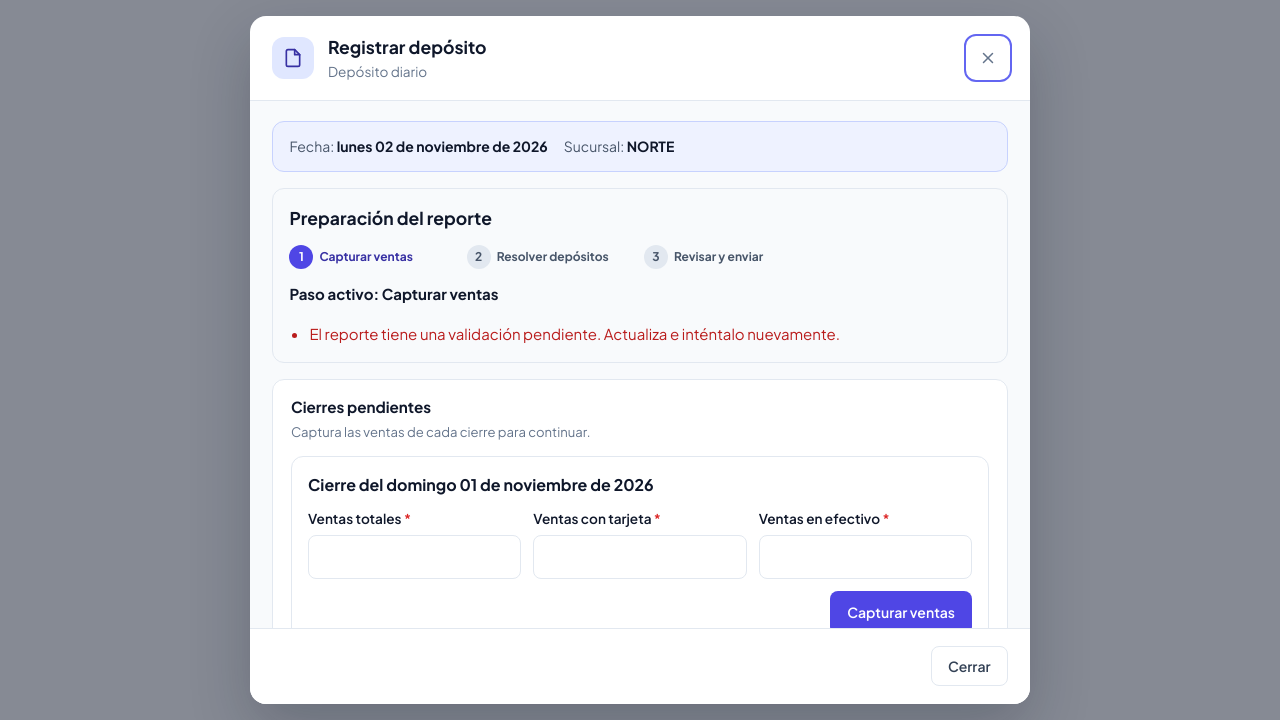
it: DepositDemoModal › captures a server-provided closure and advances to the returned report
expect the heading "Cierre del domingo 01 de noviembre de 2026" is shown: met, box [308,474,654,495]
Type "100.00" into the number field labelled "Ventas totales *" at {"x": 415, "y": 557}, box [308,535,521,579]
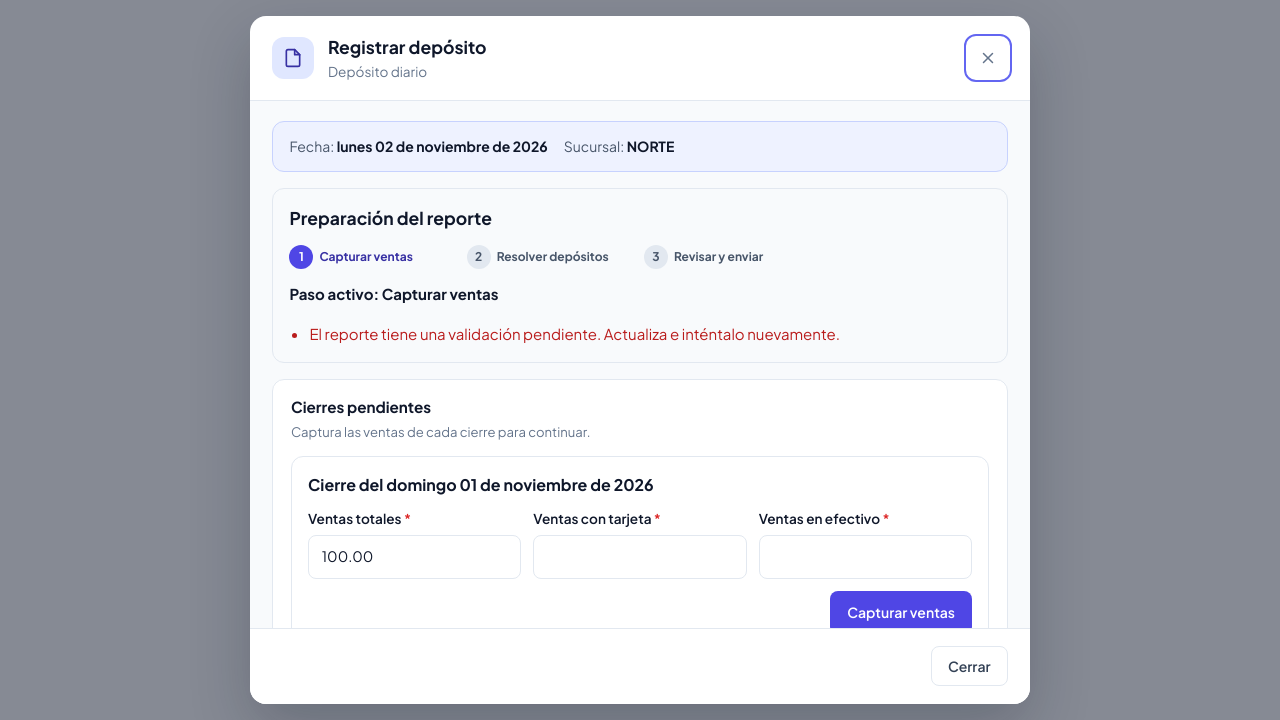
Type "70.00" into the number field labelled "Ventas en efectivo *" at {"x": 865, "y": 557}, box [759,535,972,579]
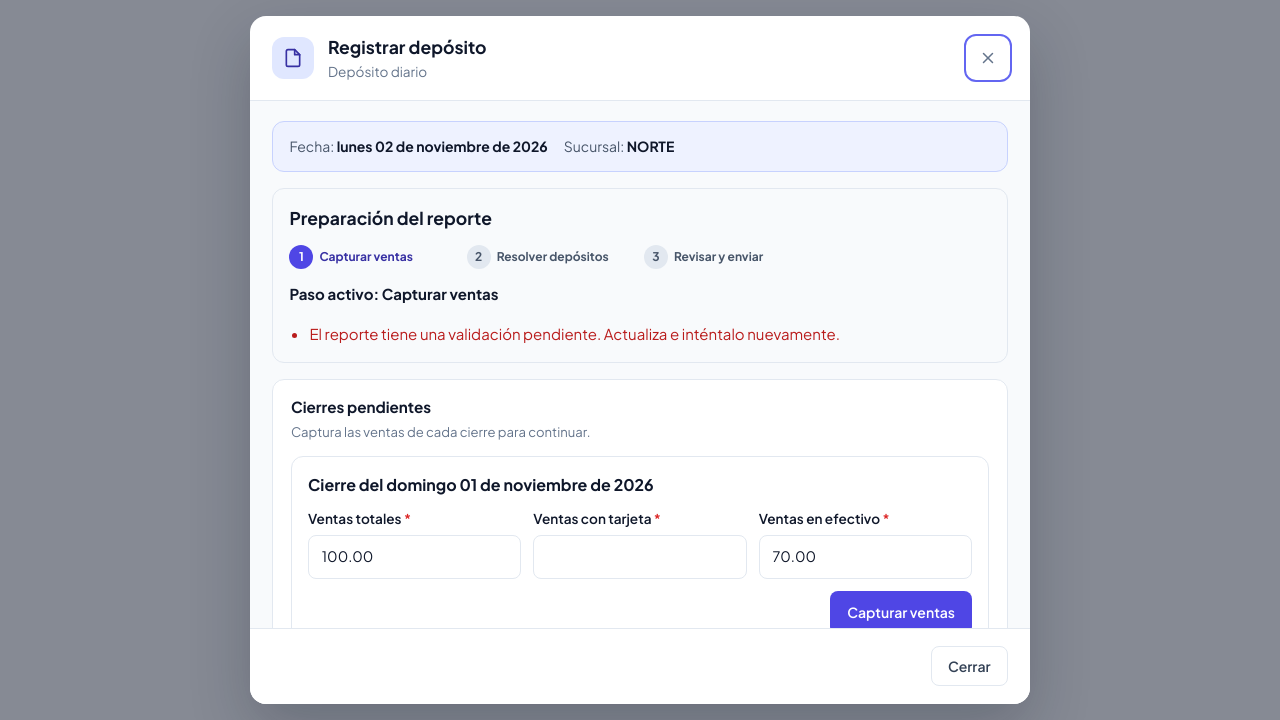
Type "30.00" into the number field labelled "Ventas con tarjeta *" at {"x": 640, "y": 557}, box [533,535,747,579]
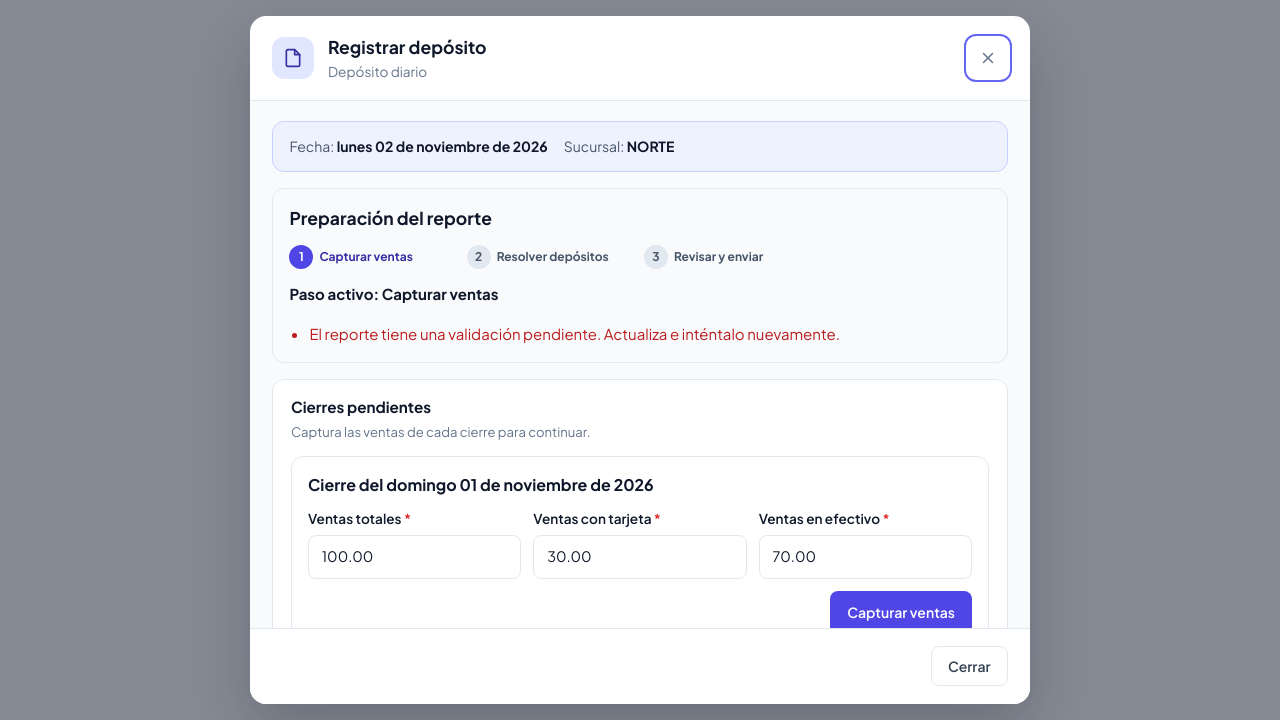
Click the button "Capturar ventas" at {"x": 901, "y": 613}, box [830,591,972,635]
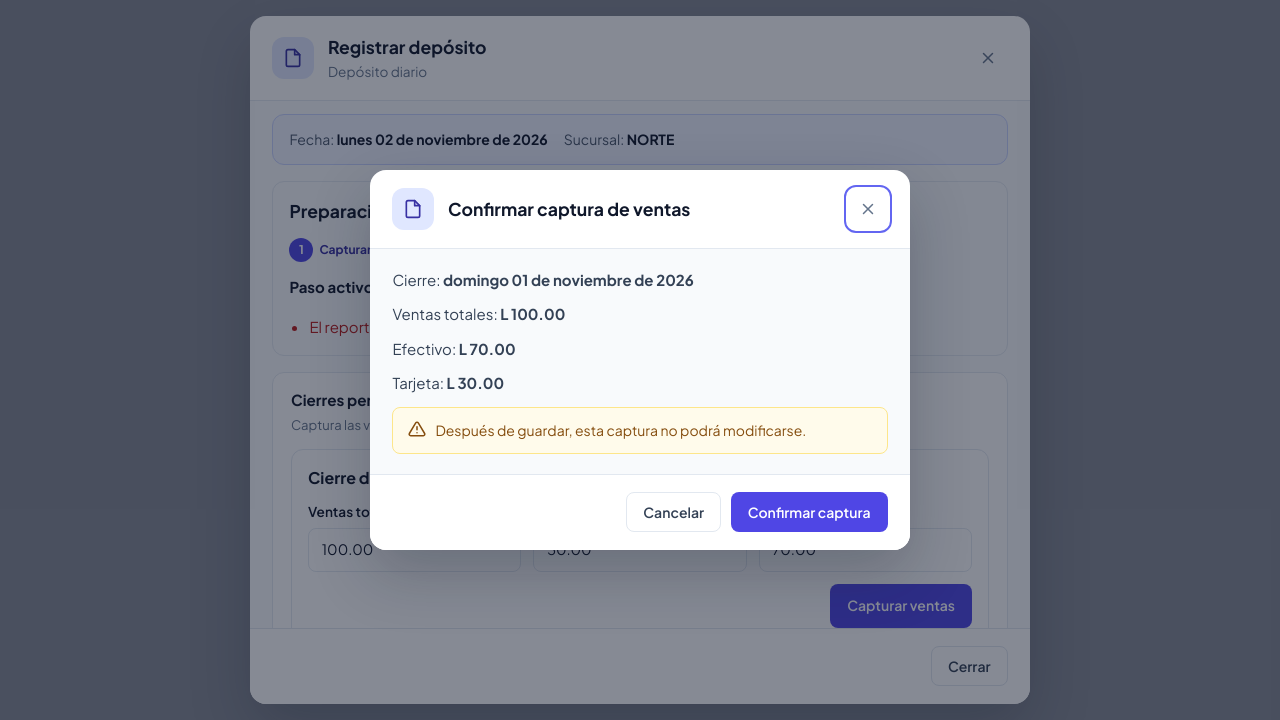
expect the text "Después de guardar, esta captura no podrá modificarse." is shown: met, box [435,420,806,440]
Click the button "Confirmar captura" at {"x": 809, "y": 512}, box [731,492,888,532]
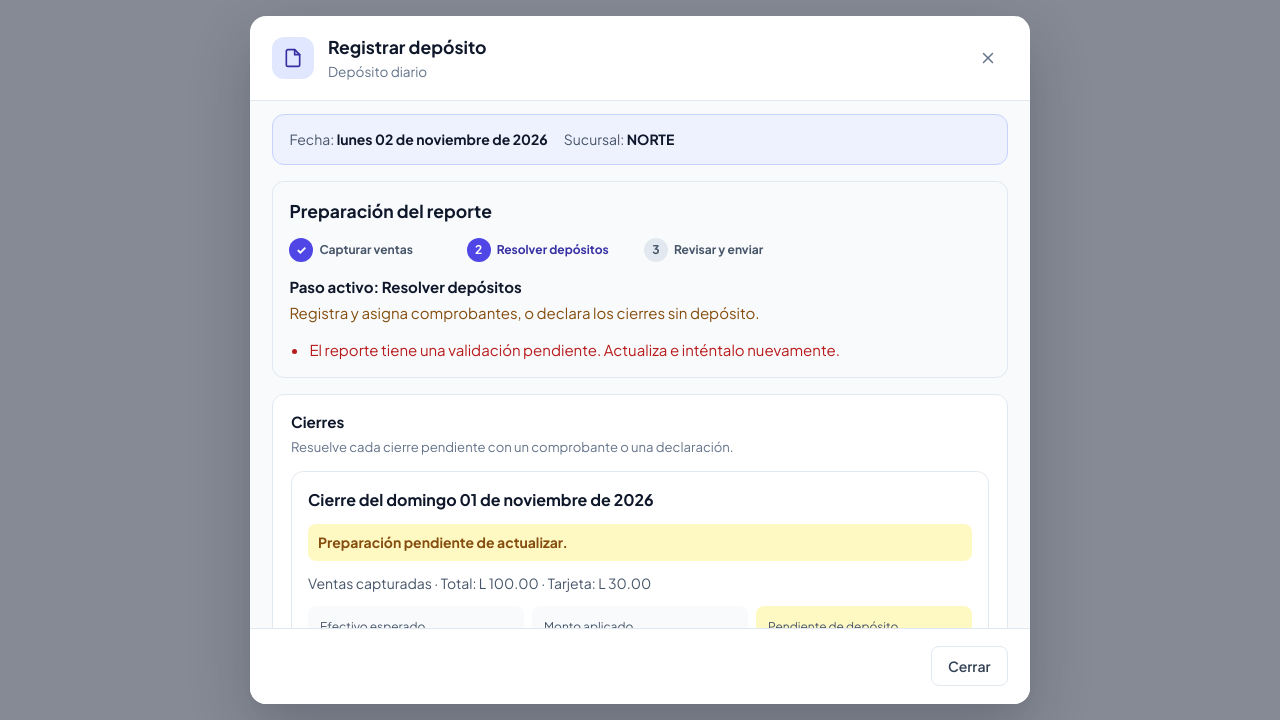
expect the text "Ventas capturadas · Total: L 100.00 · Tarjeta: L 30.00" is shown: met, box [308,574,651,592]
